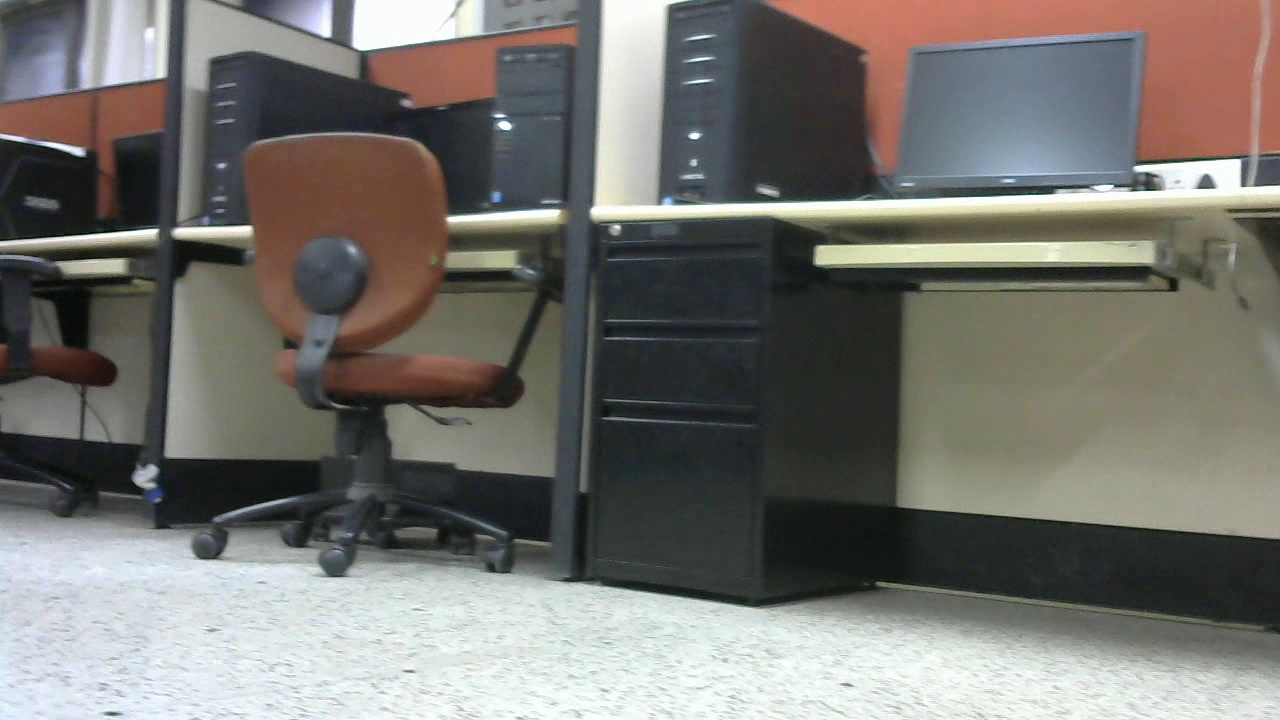chair: (195, 134, 556, 584)
